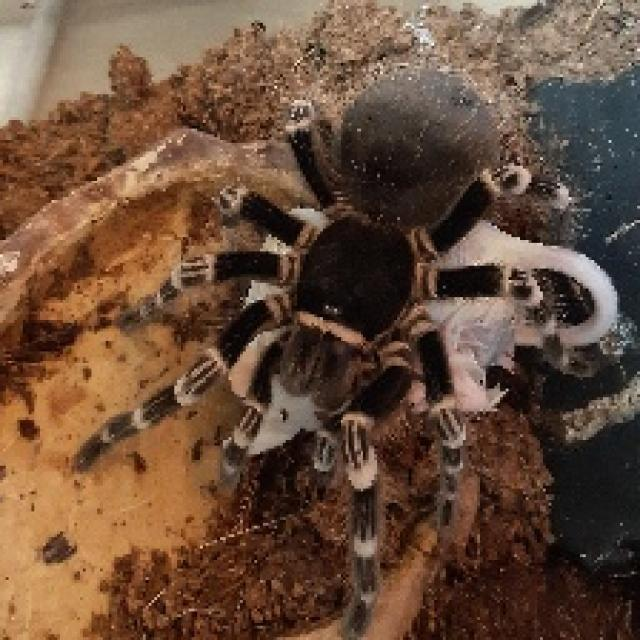Venomous spider: (89, 46, 604, 626)
